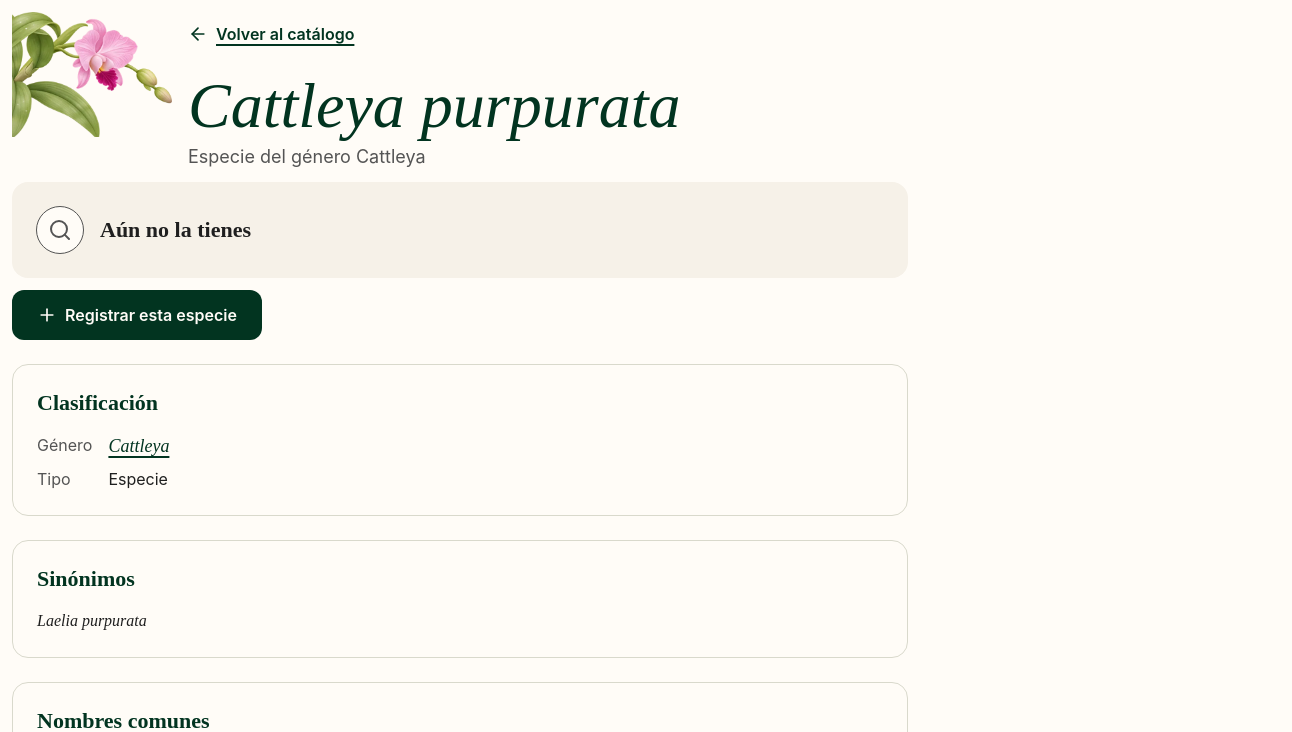
ficha de la especie › con sesión › «Aún no la tienes» y «Registrar esta especie» con la especie elegida
The width and height of the screenshot is (1292, 732).
expect the heading "Cattleya purpurata" is shown: met, box x1=188 y1=72 x2=680 y2=140
expect the text "Aún no la tienes" is shown: met, box x1=100 y1=217 x2=251 y2=242
Step 1. Click the link "Registrar esta especie" → (137,315), box x1=12 y1=290 x2=262 y2=340
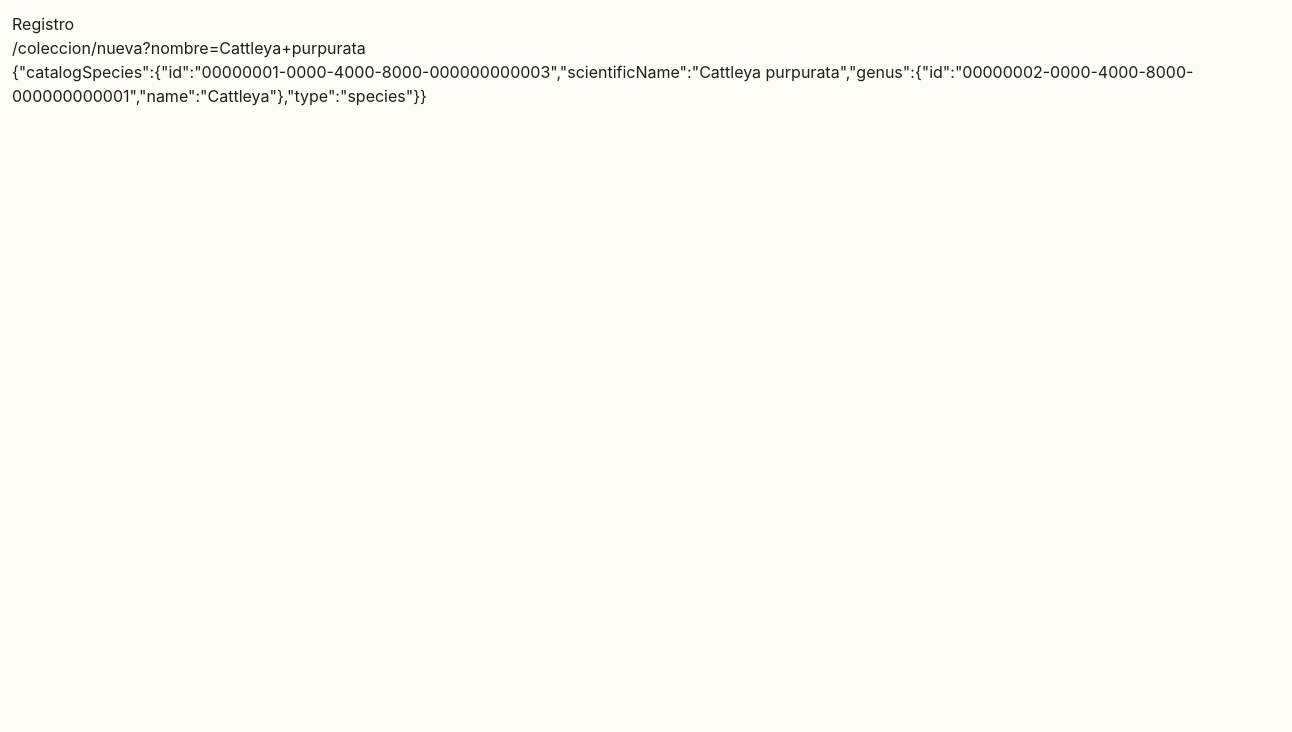
expect the text with test id "location" reads "/coleccion/nueva?nombre=Cattleya+purpurata": met, box x1=12 y1=38 x2=366 y2=58
